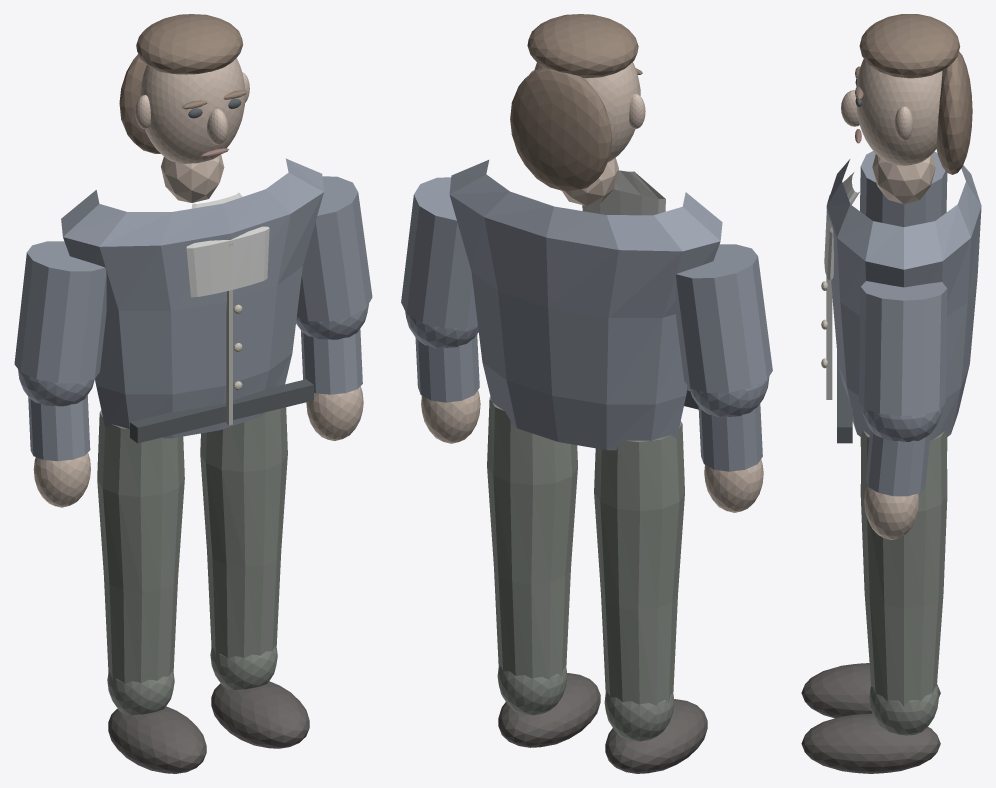
Rendered from pedestrian-4.glb.
The picture shows the model from 3 angles, left to right: view 1: azimuth 30°, elevation 25°; view 2: azimuth 150°, elevation 25°; view 3: azimuth 270°, elevation 25°; orthographic projection. The views are drawn at different scales.
Parts seen in each view (by area): view 1: torso, leg_L, leg_R, arm_L, head, arm_R; view 2: torso, leg_L, leg_R, arm_L, head, arm_R; view 3: leg_R, torso, arm_R, head, arm_L, leg_L.
Boxes of the visible parts, x1,y1,x2,y2 form: torso: (61,154,323,443); leg_L: (97,410,206,773); leg_R: (200,407,309,748); arm_L: (14,241,106,507); head: (119,14,249,163); arm_R: (296,176,372,440); torso: (449,157,722,450); leg_L: (594,421,707,773); leg_R: (487,397,600,747); arm_L: (675,244,772,512); head: (510,14,645,191); arm_R: (401,177,480,443); leg_R: (801,430,947,773); torso: (821,154,981,443); arm_R: (858,281,947,539); head: (841,14,972,174); arm_L: (860,151,947,226); leg_L: (801,437,947,718).
Bounding box in the file's own units: 1.04 × 2.05 × 0.465.
